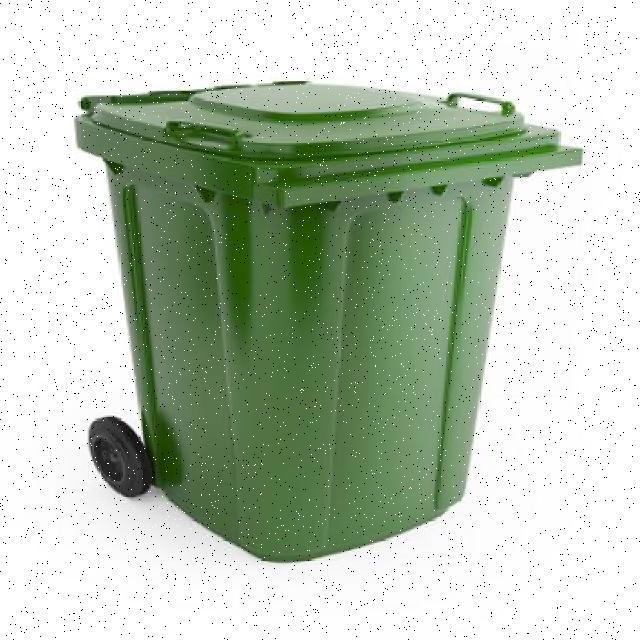garbage container: (55, 66, 601, 579)
